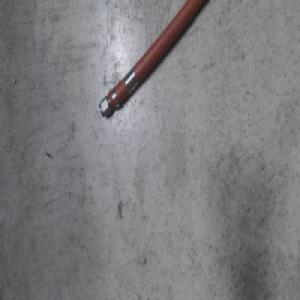Hose: (97, 0, 209, 119)
